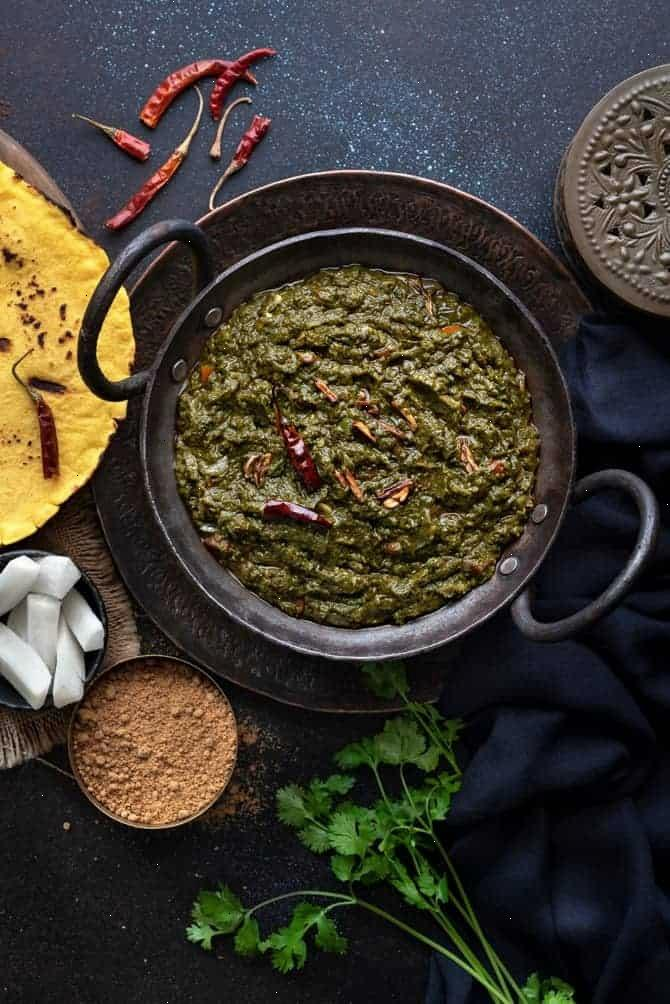saag: (186, 268, 542, 631)
